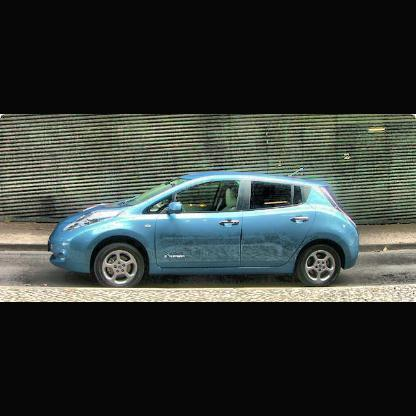Nissan Leaf Hatchback 2012: (47, 171, 362, 288)
